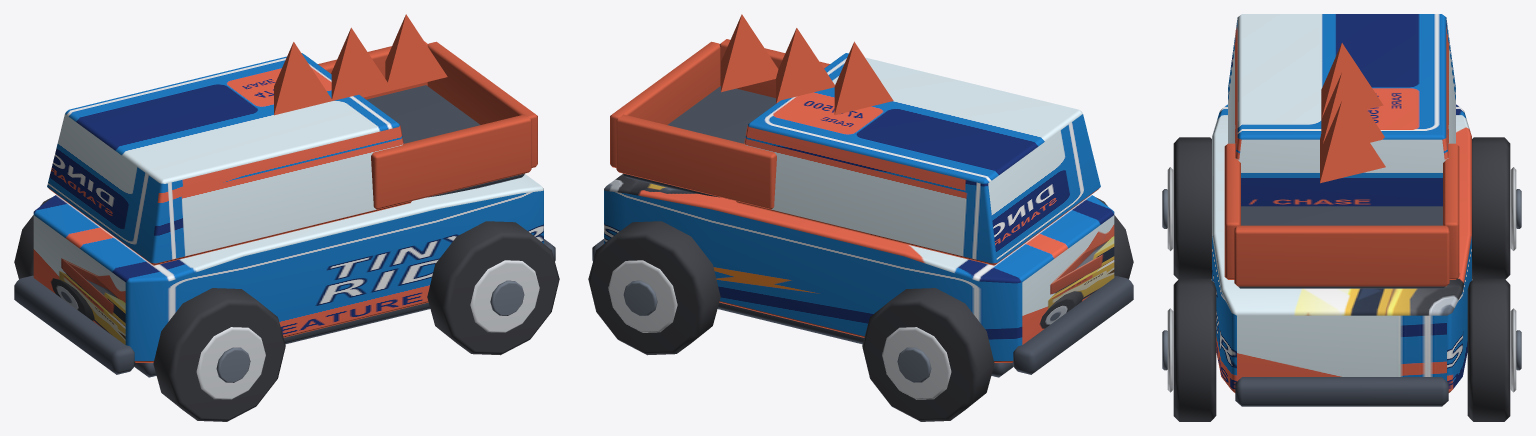
3 renders of one model, left to right at view 1: azimuth 30°, elevation 25°; view 2: azimuth 150°, elevation 25°; view 3: azimuth 270°, elevation 25°, orthographic. The views are drawn at different scales.
Parts seen in each view (by area): view 1: CR-03_cabin, CR-03_connected_shell, Tire.002, Tire, cargo side, front bumper, cargo tail, cargo floor, Rim, Rim.002, back plate.002, back plate.001 (+6 smaller); view 2: CR-03_cabin, CR-03_connected_shell, Tire.003, Tire.001, cargo side.001, cargo tail, front bumper, cargo floor, Rim.001, Rim.003, back plate.002, back plate.001 (+6 smaller); view 3: CR-03_cabin, CR-03_connected_shell, cargo tail, rear bumper, Tire.002, Tire.003, Tire, Tire.001, cargo floor, back plate.002, cargo side, cargo side.001 (+6 smaller).
Boxes of the visible parts, x1=… form: CR-03_cabin: x1=47, y1=53, x2=411, y2=265; CR-03_connected_shell: x1=33, y1=174, x2=543, y2=362; Tire.002: x1=427, y1=221, x2=559, y2=355; Tire: x1=153, y1=288, x2=285, y2=421; cargo side: x1=371, y1=114, x2=531, y2=209; front bumper: x1=14, y1=275, x2=135, y2=374; cargo tail: x1=427, y1=41, x2=537, y2=167; cargo floor: x1=366, y1=85, x2=524, y2=197; Rim: x1=196, y1=327, x2=265, y2=399; Rim.002: x1=470, y1=260, x2=539, y2=332; back plate.002: x1=385, y1=14, x2=447, y2=90; back plate.001: x1=331, y1=27, x2=392, y2=100; CR-03_cabin: x1=736, y1=53, x2=1100, y2=265; CR-03_connected_shell: x1=604, y1=174, x2=1114, y2=362; Tire.003: x1=588, y1=221, x2=720, y2=355; Tire.001: x1=862, y1=288, x2=994, y2=421; cargo side.001: x1=616, y1=114, x2=776, y2=209; cargo tail: x1=610, y1=41, x2=720, y2=167; front bumper: x1=1012, y1=275, x2=1133, y2=374; cargo floor: x1=623, y1=86, x2=775, y2=197; Rim.001: x1=882, y1=327, x2=951, y2=399; Rim.003: x1=608, y1=260, x2=677, y2=332; back plate.002: x1=721, y1=14, x2=778, y2=92; back plate.001: x1=776, y1=28, x2=834, y2=103; CR-03_cabin: x1=1228, y1=14, x2=1455, y2=206; CR-03_connected_shell: x1=1212, y1=104, x2=1471, y2=392; cargo tail: x1=1234, y1=225, x2=1449, y2=286; rear bumper: x1=1235, y1=377, x2=1448, y2=406; Tire.002: x1=1173, y1=278, x2=1216, y2=421; Tire.003: x1=1467, y1=278, x2=1510, y2=421; Tire: x1=1173, y1=137, x2=1211, y2=279; Tire.001: x1=1472, y1=137, x2=1510, y2=279; cargo floor: x1=1238, y1=206, x2=1445, y2=288; back plate.002: x1=1320, y1=101, x2=1385, y2=183; cargo side: x1=1224, y1=143, x2=1240, y2=279; cargo side.001: x1=1443, y1=143, x2=1459, y2=279.
Bounding box in the file's own units: 333 × 206 × 220.
